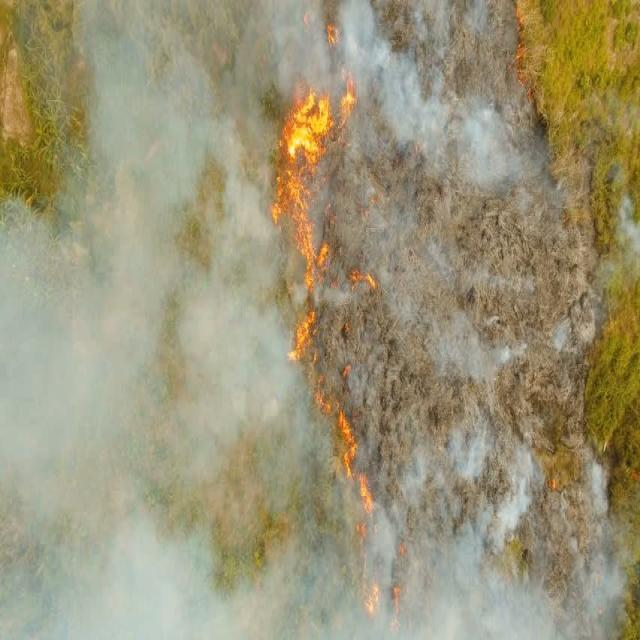Fire: (280, 78, 390, 612)
Smoke: (0, 0, 281, 640), (290, 483, 640, 640), (282, 0, 524, 163)
